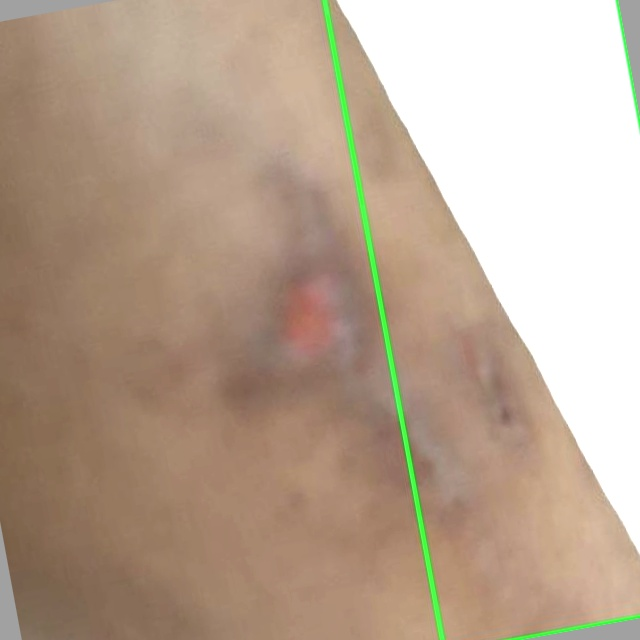Atopic Dermatitis: (324, 0, 639, 639)
